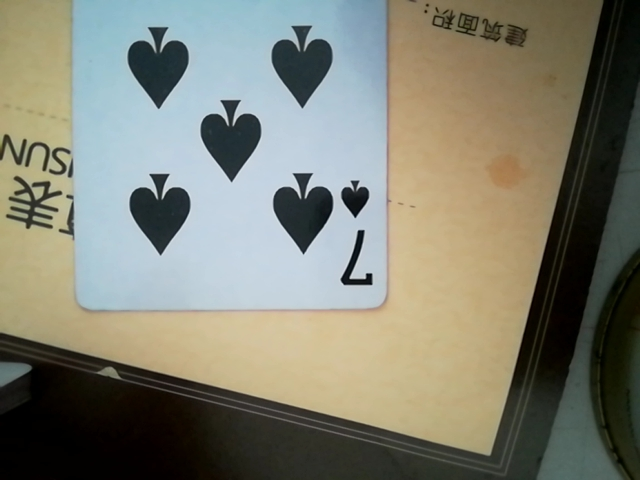ht 7: (66, 1, 395, 316)
